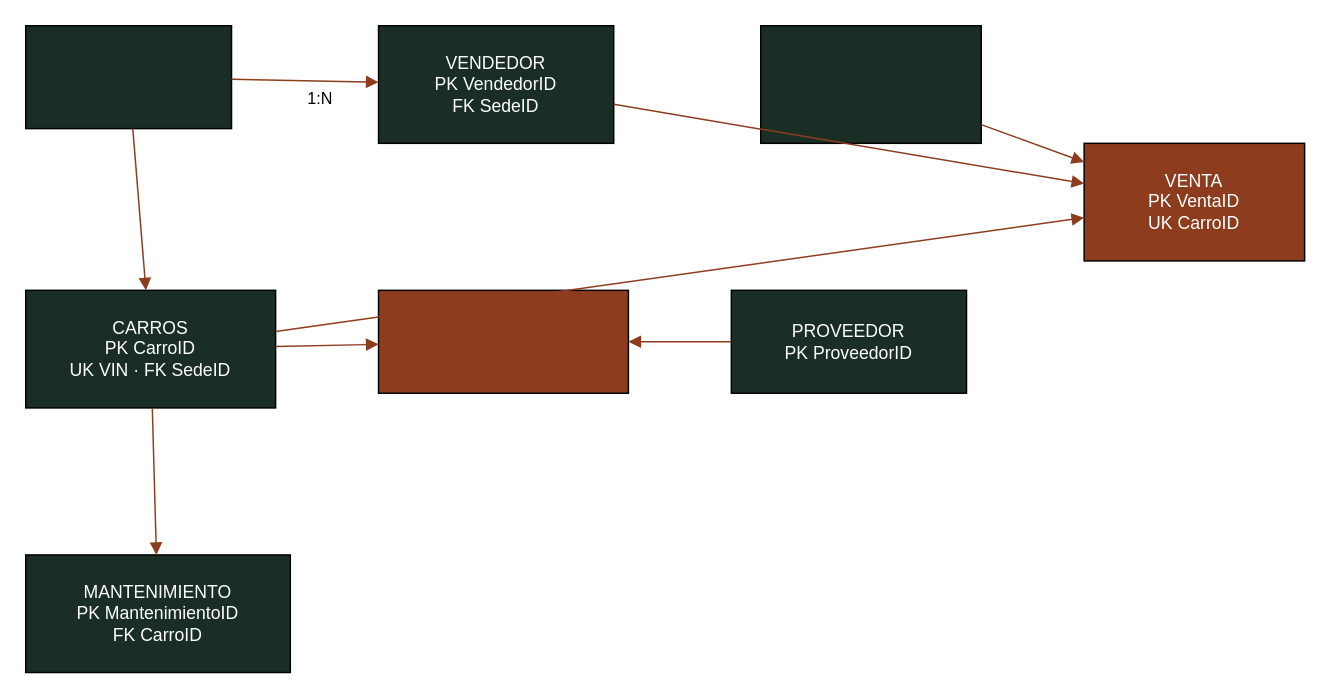
The diagram is 1330 pixels wide and 698 high, and some of its shapes have lost their labels. Each missing label, with the centre of its shape:
CARRO_PROVEEDOR N:M compra: (x=502, y=341)
CLIENTE PK ClientID UK DNI: (x=870, y=83)
SEDE PK SedeID: (x=128, y=76)
